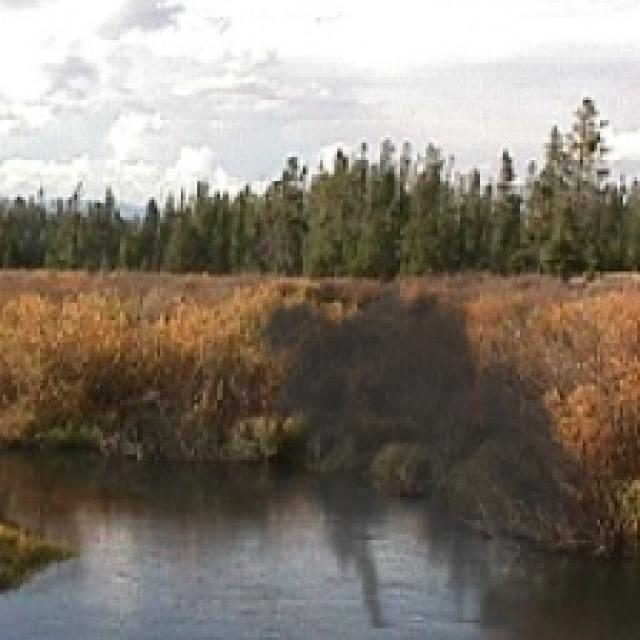smoke: (243, 266, 603, 628)
